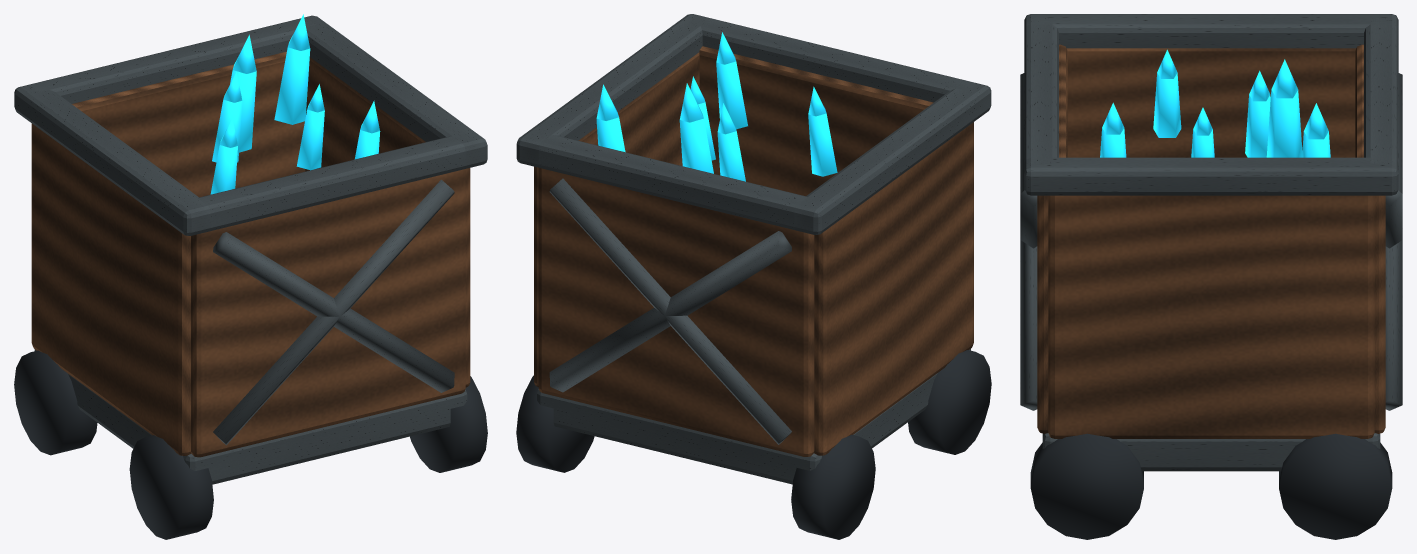
The model's file is cart.glb.
3 views of the same model, side by side, from view 1: azimuth 30°, elevation 25°; view 2: azimuth 150°, elevation 25°; view 3: azimuth 270°, elevation 25° (orthographic). The views are drawn at different scales.
Visible parts, largest first — view 1: cart; view 2: cart; view 3: cart.
Part boxes in pixels (box(x1,y1,x2,y2)): cart: box(14, 14, 487, 539); cart: box(516, 14, 991, 539); cart: box(1020, 14, 1402, 539).
Bounding box in the file's own units: 1.74 × 2.12 × 1.76.
4 materials, 2 textured.
